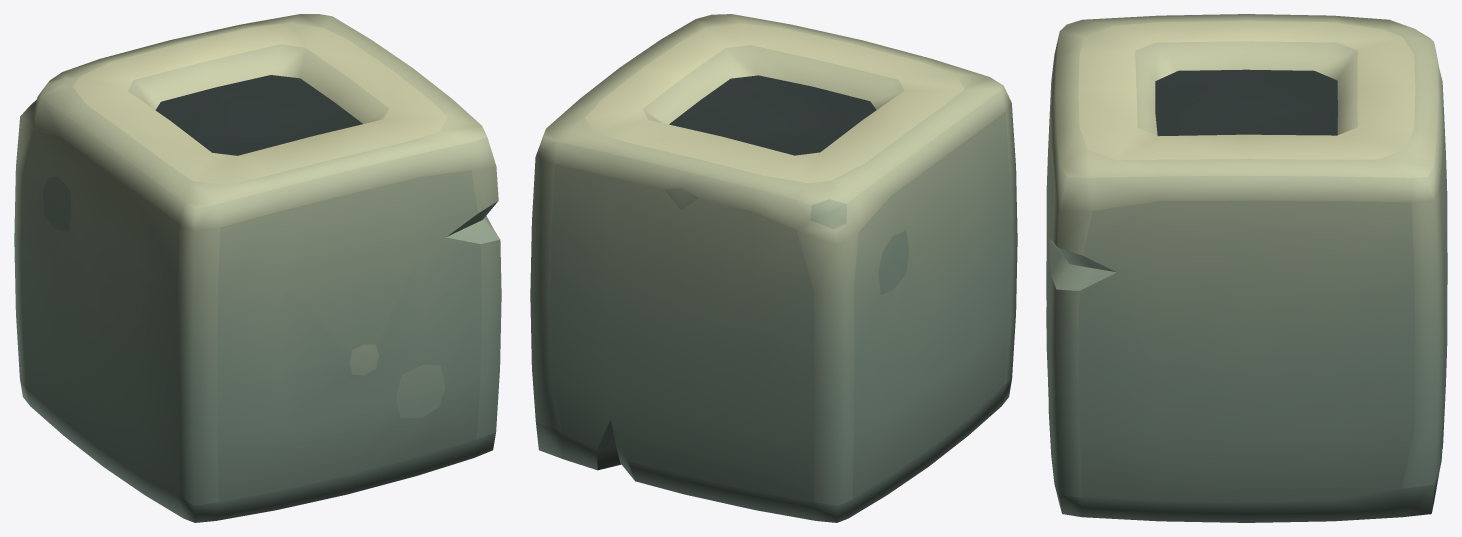
Rendered from block_stone1_10_LOD_group.fbx.
3 renders of one model, left to right at view 1: azimuth 30°, elevation 25°; view 2: azimuth 150°, elevation 25°; view 3: azimuth 270°, elevation 25°, orthographic. The views are drawn at different scales.
Visible parts, largest first — view 1: block_stone1_10_LOD0; view 2: block_stone1_10_LOD0; view 3: block_stone1_10_LOD0.
Part boxes in pixels (x1=…): block_stone1_10_LOD0: x1=14, y1=14, x2=501, y2=522; block_stone1_10_LOD0: x1=530, y1=14, x2=1017, y2=522; block_stone1_10_LOD0: x1=1046, y1=14, x2=1447, y2=522.
Size of what is drawn, in the model's own units: 109 by 108 by 109.
1 material, 1 textured.
